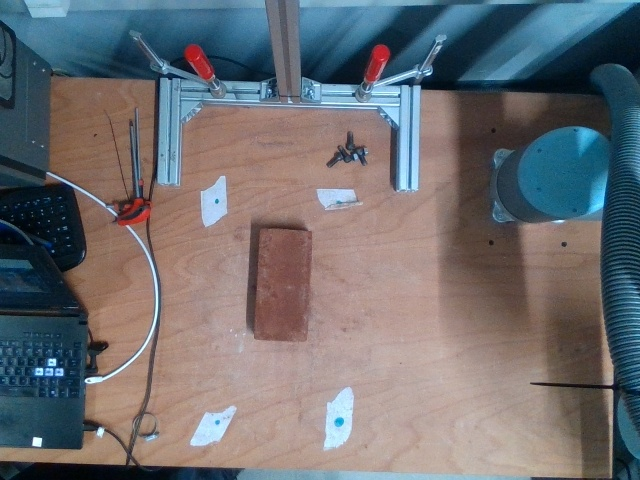brick: (253, 227, 310, 338)
